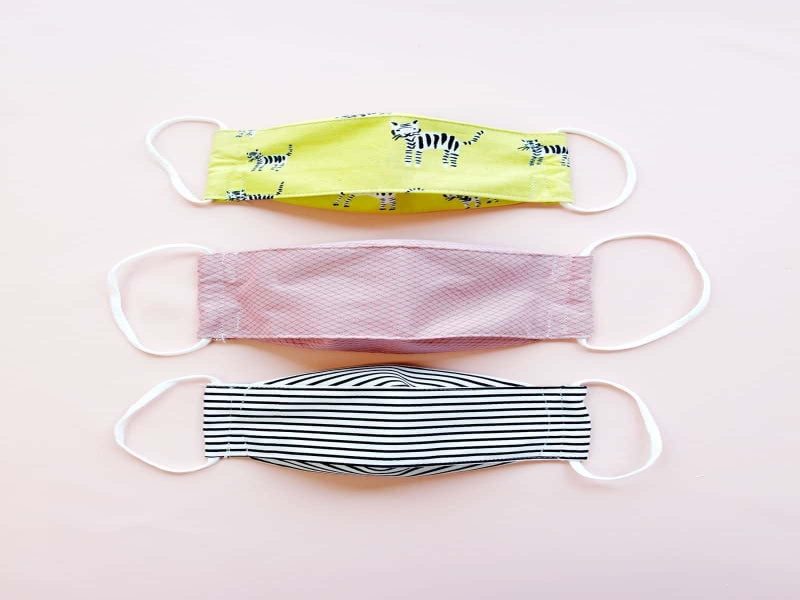mask: (198, 239, 598, 355), (200, 365, 592, 479), (206, 108, 577, 216)
